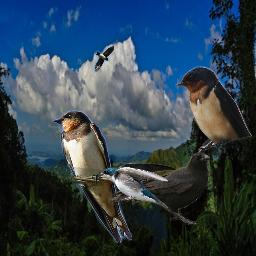Crow: (108, 152, 210, 225)
Swallow: (52, 110, 132, 243), (175, 66, 252, 155), (99, 162, 177, 210), (94, 45, 114, 72)
